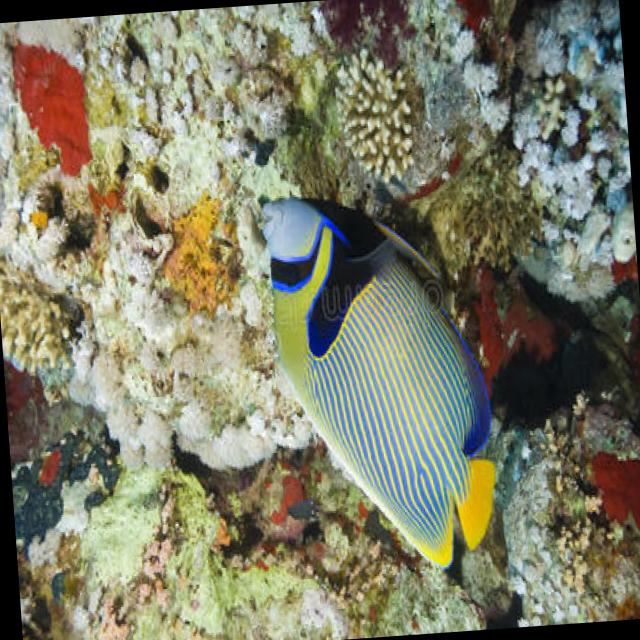AngelFish: (255, 182, 502, 586)
